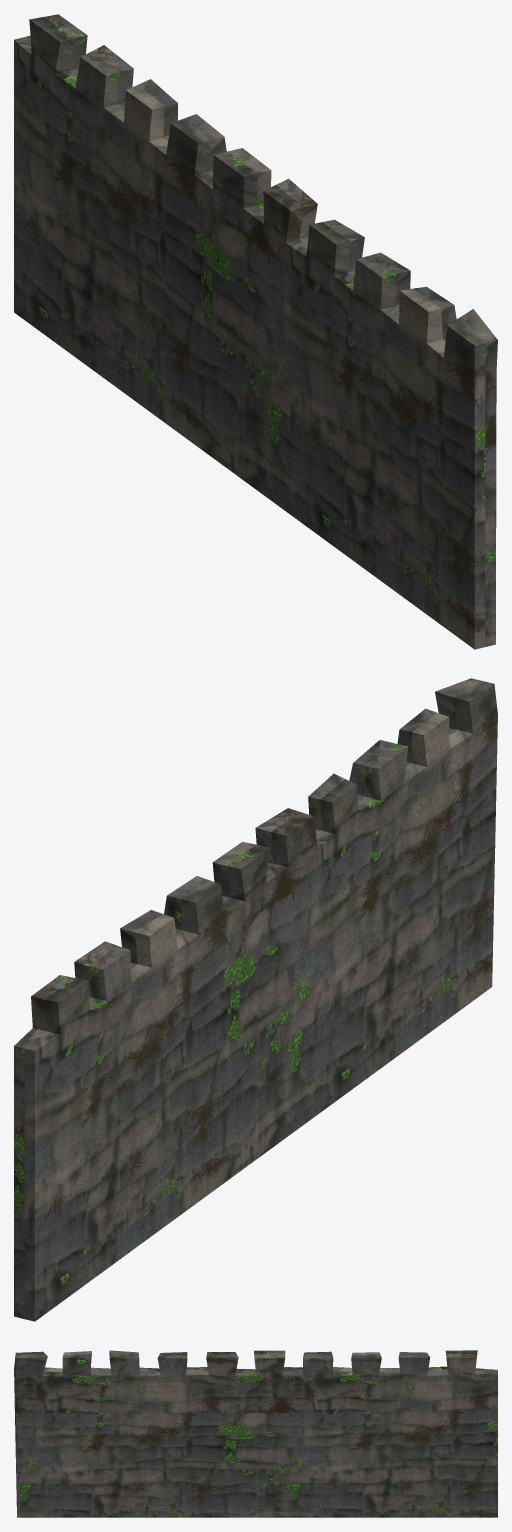
The model's file is Barrier.FBX.
The picture shows the model from 3 angles, top to bottom: view 1: azimuth 30°, elevation 25°; view 2: azimuth 150°, elevation 25°; view 3: azimuth 270°, elevation 25°; orthographic projection. The views are drawn at different scales.
Visible parts, largest first — view 1: Box040; view 2: Box040; view 3: Box040.
Part boxes in pixels (x1=…): Box040: x1=14, y1=14, x2=497, y2=649; Box040: x1=14, y1=678, x2=497, y2=1321; Box040: x1=14, y1=1350, x2=497, y2=1517.
Bounding box in the file's own units: 20.79 × 165 × 443.
1 material, 1 textured.
